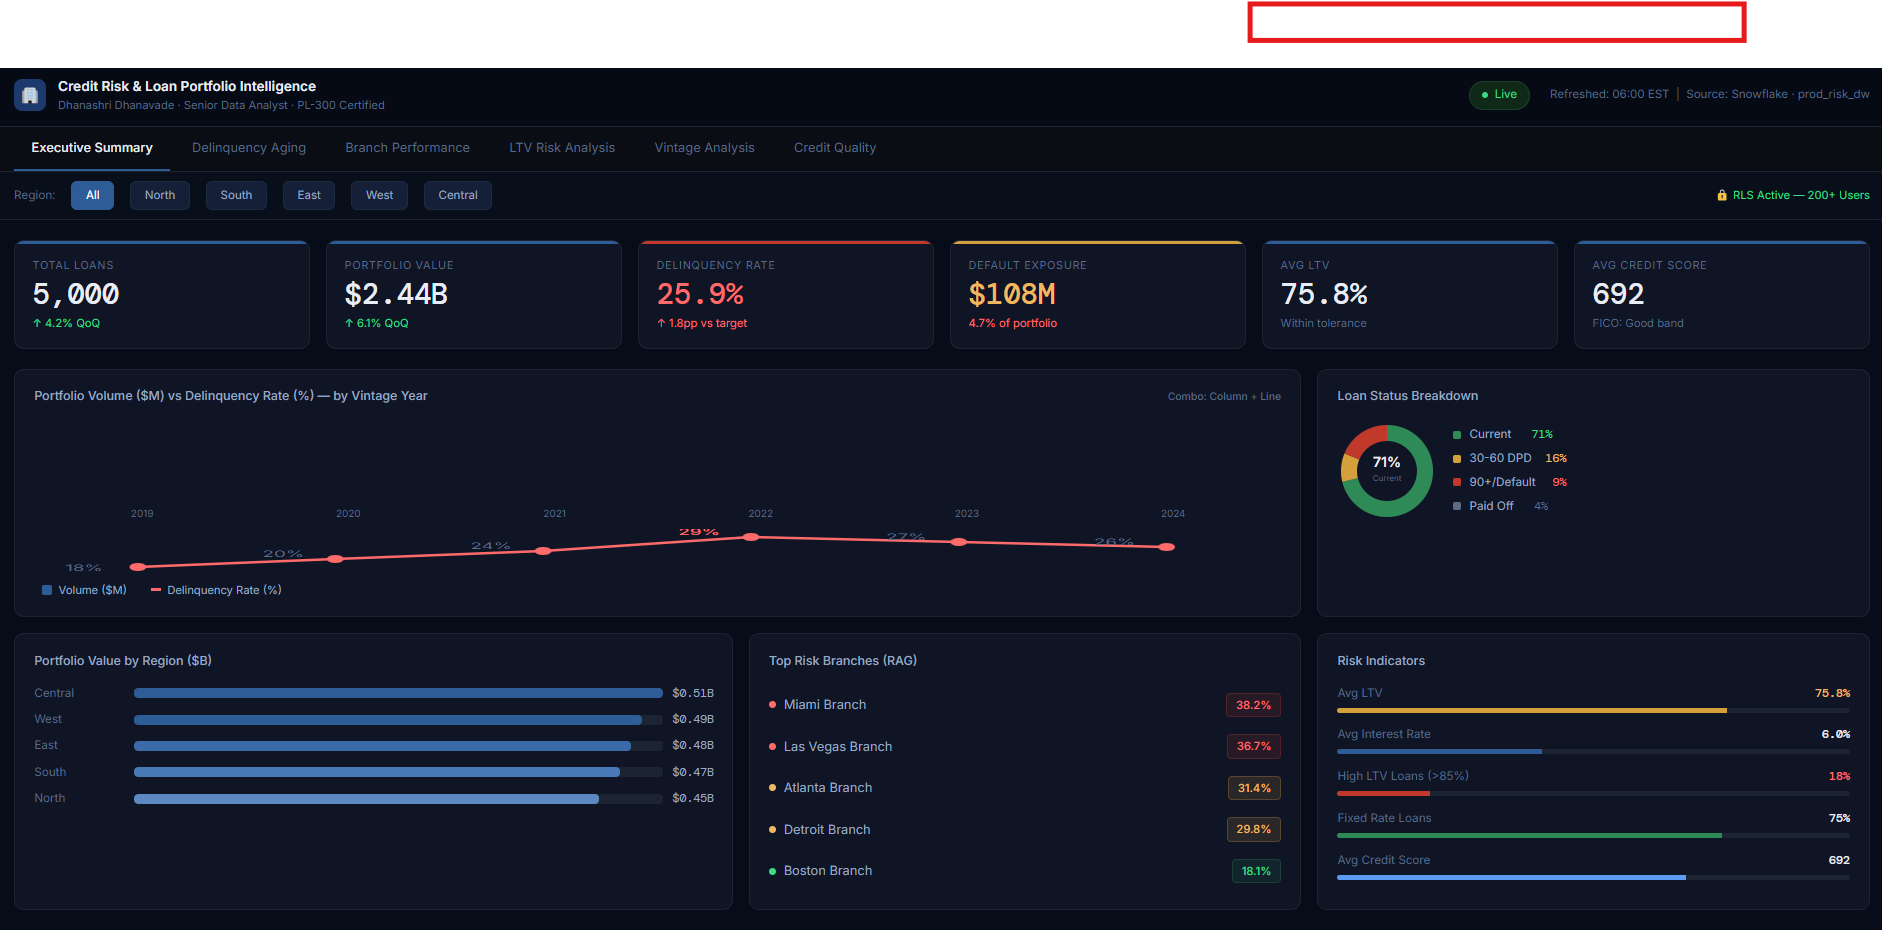

The page's visual inventory and layout, read from the dashboard file:
{"tool":"powerbi","page":{"name":"Executive summary","canvas":[1280,720],"ordinal":0},"visuals":[{"type":"card","fields":{"Values":["pbi_master_loans.Total Loans"]},"box":[234.6,96,172.9,85.1],"z":0},{"type":"card","fields":{"Values":["pbi_master_loans.Total Portfolio $B"]},"box":[388.3,78.2,186.6,122.1],"z":1},{"type":"card","fields":{"Values":["pbi_master_loans.Delinquency Rate"]},"box":[574.8,74.1,159.1,126.2],"z":2},{"type":"card","fields":{"Values":["pbi_master_loans.Default Exposure $M"]},"box":[749.1,83.7,133.1,107],"z":3},{"type":"card","fields":{"Values":["pbi_master_loans.Avg Credit Score"]},"box":[882.1,83.7,149.5,107],"z":4},{"type":"donutChart","fields":{"Category":["pbi_master_loans.LoanStatus"],"Y":["pbi_master_loans.Total Loans"]},"box":[990.5,296.3,149.5,149.5],"z":5},{"type":"clusteredBarChart","fields":{"Category":["pbi_master_loans.Region"],"Y":["pbi_master_loans.Total Portfolio $B"]},"box":[654.4,337.5,149.5,149.5],"z":6},{"type":"slicer","fields":{"Values":["pbi_master_loans.Region"]},"box":[218.1,297.7,225,149.5],"z":7},{"type":"textbox","box":[20.6,0,664,74.1],"z":8}]}

Visuals, with their boxes on the page's 1280x720 design canvas (x1, y1, x2, y2). These are canvas units, not pixel positions in the 1882x930 screenshot, which may show the page scaled, cropped or inside an application window:
card - pbi_master_loans.Total Loans: [left=235, top=96, right=408, bottom=181]
card - pbi_master_loans.Total Portfolio $B: [left=388, top=78, right=575, bottom=200]
card - pbi_master_loans.Delinquency Rate: [left=575, top=74, right=734, bottom=200]
card - pbi_master_loans.Default Exposure $M: [left=749, top=84, right=882, bottom=191]
card - pbi_master_loans.Avg Credit Score: [left=882, top=84, right=1032, bottom=191]
donutChart - pbi_master_loans.LoanStatus x pbi_master_loans.Total Loans: [left=990, top=296, right=1140, bottom=446]
clusteredBarChart - pbi_master_loans.Region x pbi_master_loans.Total Portfolio $B: [left=654, top=338, right=804, bottom=487]
slicer - pbi_master_loans.Region: [left=218, top=298, right=443, bottom=447]
textbox: [left=21, top=0, right=685, bottom=74]
